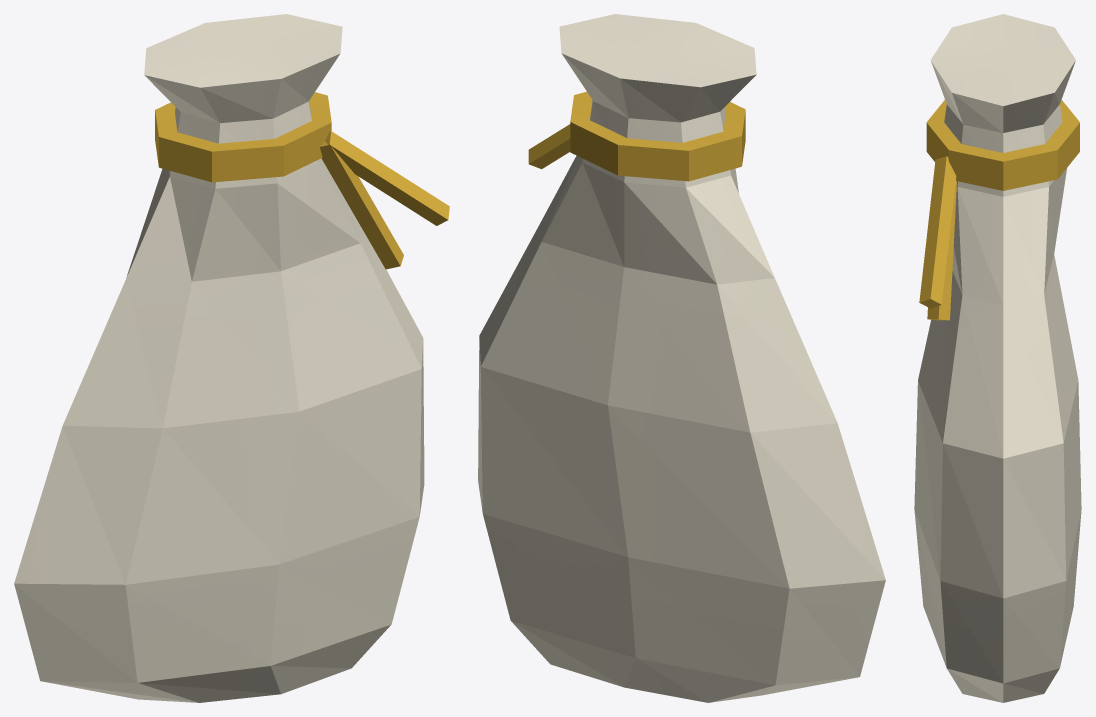
The model's file is seed_bag_empty.obj.
The picture shows the model from 3 angles, left to right: view 1: azimuth 30°, elevation 25°; view 2: azimuth 150°, elevation 25°; view 3: azimuth 270°, elevation 25°; orthographic projection. The views are drawn at different scales.
Parts seen in each view (by area): view 1: folded_leather_sack_belly_and_gathered_neck, cord_cinch_and_short_tied_ends; view 2: folded_leather_sack_belly_and_gathered_neck, cord_cinch_and_short_tied_ends; view 3: folded_leather_sack_belly_and_gathered_neck, cord_cinch_and_short_tied_ends.
Boxes of the visible parts, bbox=[...] form: folded_leather_sack_belly_and_gathered_neck: bbox=[14, 14, 424, 702]; cord_cinch_and_short_tied_ends: bbox=[155, 92, 449, 269]; folded_leather_sack_belly_and_gathered_neck: bbox=[478, 14, 885, 702]; cord_cinch_and_short_tied_ends: bbox=[528, 91, 745, 181]; folded_leather_sack_belly_and_gathered_neck: bbox=[914, 14, 1081, 702]; cord_cinch_and_short_tied_ends: bbox=[919, 99, 1079, 320].
Size of the model in its own units: 0.349 by 0.5062 by 0.1293.
